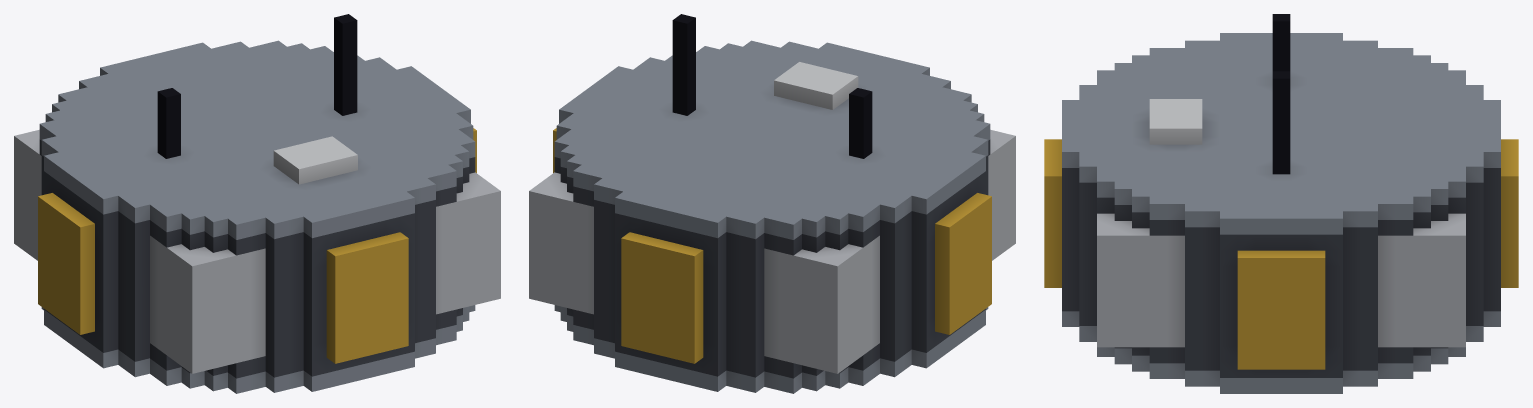
File: avionics_core_s.glb
3 views of the same model, side by side, from view 1: azimuth 30°, elevation 25°; view 2: azimuth 150°, elevation 25°; view 3: azimuth 270°, elevation 25° (orthographic). The views are drawn at different scales.
Visible parts, largest first — view 1: avionics_core_s; view 2: avionics_core_s; view 3: avionics_core_s.
Boxes of the visible parts, x1,y1,x2,y2 form: avionics_core_s: [14, 14, 500, 393]; avionics_core_s: [529, 14, 1015, 393]; avionics_core_s: [1044, 14, 1518, 393].
Size of the model in its own units: 1.35 by 0.85 by 1.35.
